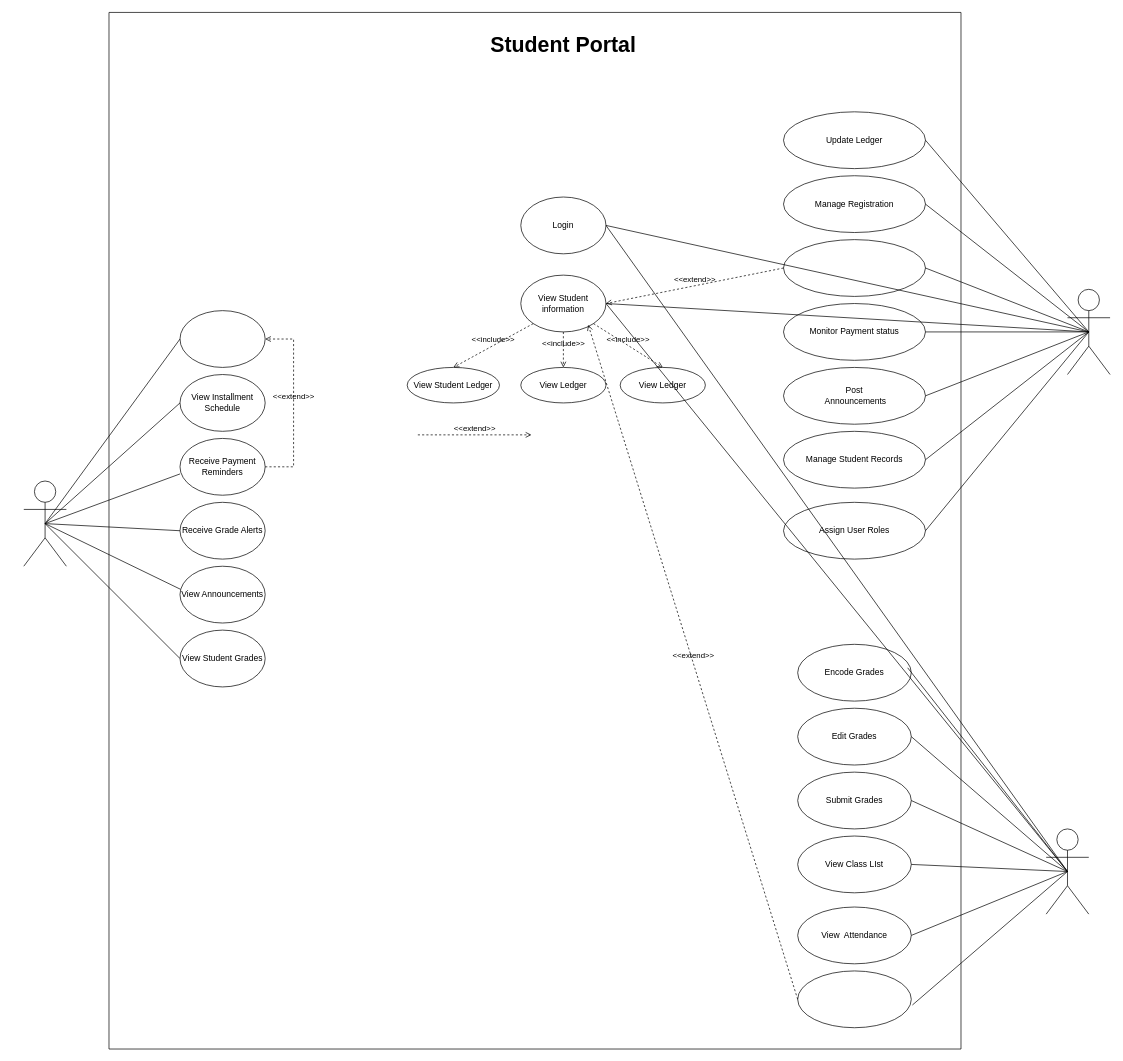
Image size: 1123x1061. Some labels were removed from this diagram. Each missing label, with the centre of its shape:
Admin: [1088,332]
Generate Academic Reports: [854,267]
Generate Class Report: [854,999]
Student/Parents: [44,523]
Teachers: [1067,871]
View Student Ledgers: [222,338]
